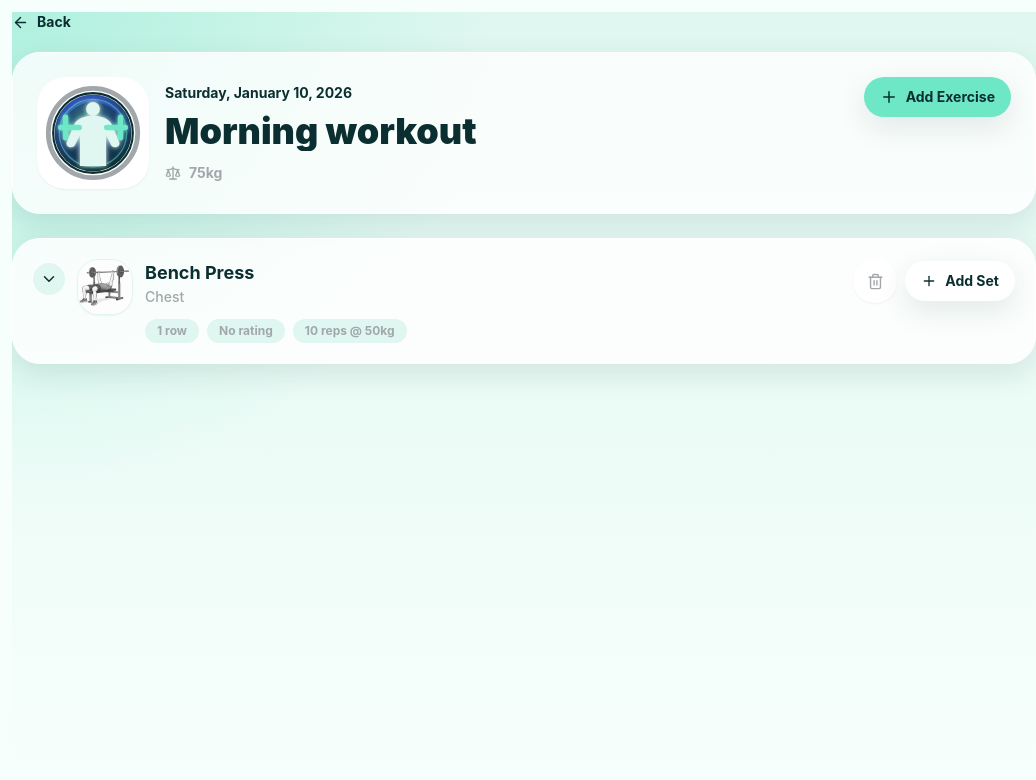
shows a failed exercise deletion
What coordinates should you click on to do the following:
click the button "Bench Press Chest 1 row No rating 10 reps @ 50kg"
I would click on:
 (49, 279)
Its box is [33,259,407,343].
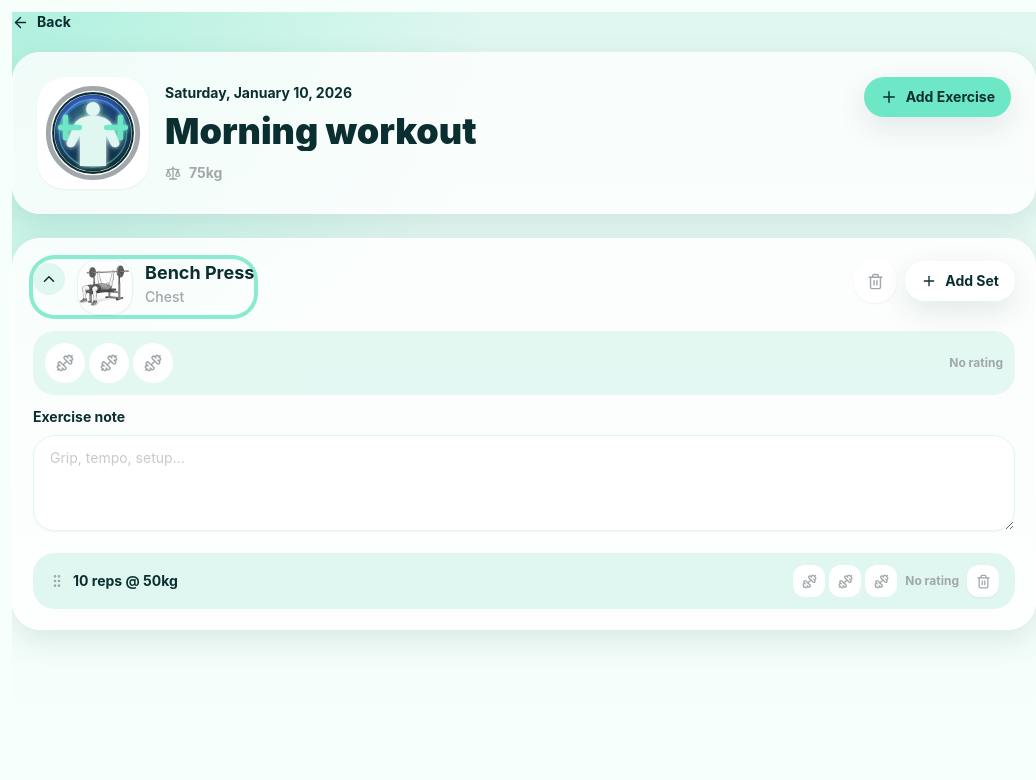
What coordinates should you click on to do the following:
click the button named "Delete Bench Press"
I would click on:
 (875, 281)
Its box is [853,259,897,303].
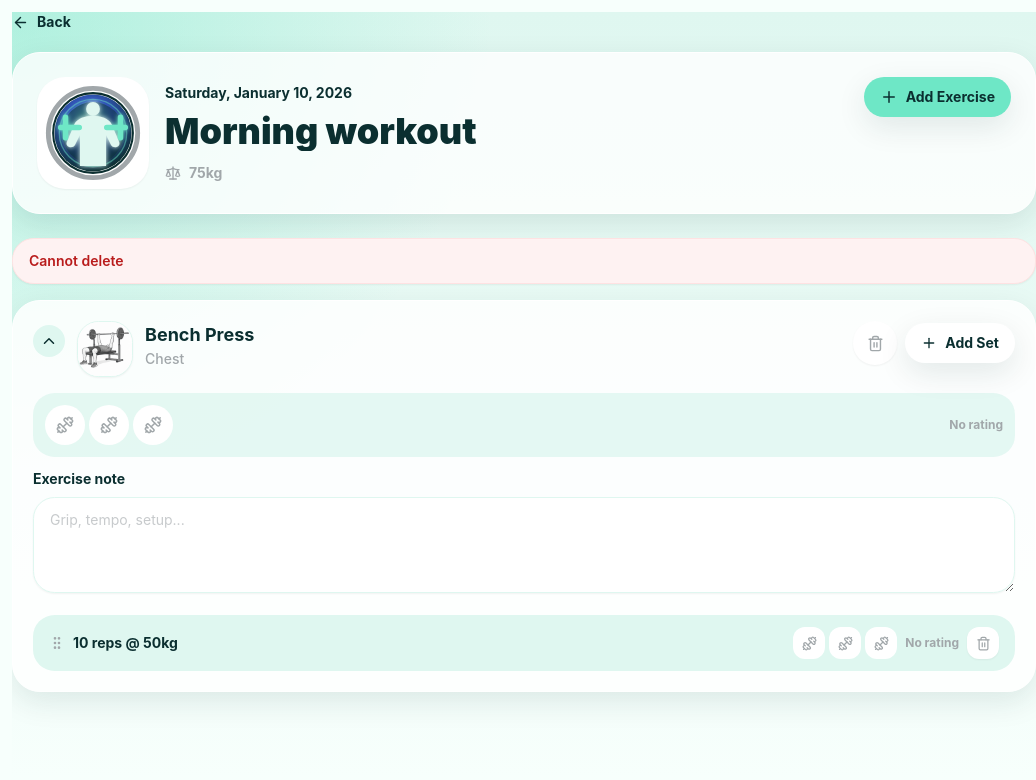
Expected: the text "Cannot delete" is shown, [12,238,1035,284]
